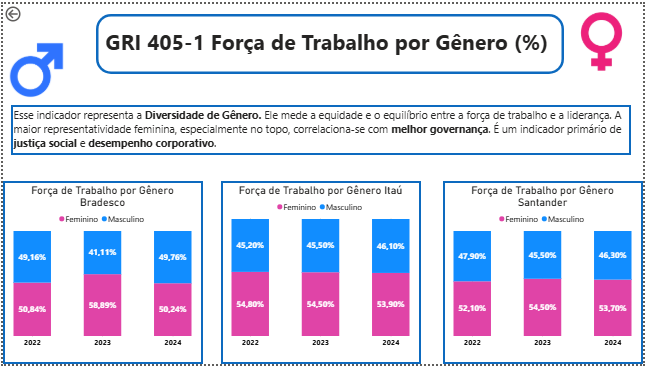

Layout of this report page (visuals, bound fields, positions):
{"tool":"powerbi","page":{"name":"GRI 405-1 Força de Trabalho por Gênero","canvas":[1280,720],"ordinal":2},"visuals":[{"type":"shape","box":[16,202,1240,100],"z":0},{"type":"shape","box":[880,354,400,366],"z":1000},{"type":"shape","box":[436,354,400,366],"z":2000},{"type":"shape","box":[0,354,400,366],"z":3000},{"type":"shape","box":[186,20,936,120],"z":4000},{"type":"textbox","box":[200,40,908,84],"z":5000},{"type":"textbox","box":[16,202,1240,100],"z":6000},{"type":"actionButton","box":[0,0,100,40],"z":7000},{"type":"hundredPercentStackedColumnChart","title":"Força de Trabalho por Gênero Bradesco","fields":{"Category":["Fato.Ano"],"Y":["_medidas.GRI_405_1_Genero"],"Series":["Fato.Caterogia Resumida"]},"box":[16,360,366,338],"z":8000},{"type":"hundredPercentStackedColumnChart","title":"Força de Trabalho por Gênero           Itaú","fields":{"Category":["Fato.Ano"],"Y":["_medidas.GRI_405_1_Genero"],"Series":["Fato.Caterogia Resumida"]},"box":[452,360,366,338],"z":9000},{"type":"hundredPercentStackedColumnChart","title":"Força de Trabalho por Gênero Santander","fields":{"Category":["Fato.Ano"],"Y":["_medidas.GRI_405_1_Genero"],"Series":["Fato.Caterogia Resumida"]},"box":[896,360,366,338],"z":10000},{"type":"image","box":[1122,0,150,150],"z":11000},{"type":"image","box":[0,62,134,140],"z":12000}]}

Visuals, with their boxes in screenshot pixels (x1, y1, x2, y2), scaled from the page's 1280x720 canvas onto the 645x368 screenshot:
shape: 8/103/633/154
shape: 443/181/644/367
shape: 220/181/421/367
shape: 0/181/202/367
shape: 94/10/565/72
textbox: 101/20/558/63
textbox: 8/103/633/154
actionButton: 0/0/50/20
"Força de Trabalho por Gênero Bradesco" hundredPercentStackedColumnChart: 8/184/192/357
"Força de Trabalho por Gênero           Itaú" hundredPercentStackedColumnChart: 228/184/412/357
"Força de Trabalho por Gênero Santander" hundredPercentStackedColumnChart: 452/184/636/357
image: 565/0/641/77
image: 0/32/68/103
